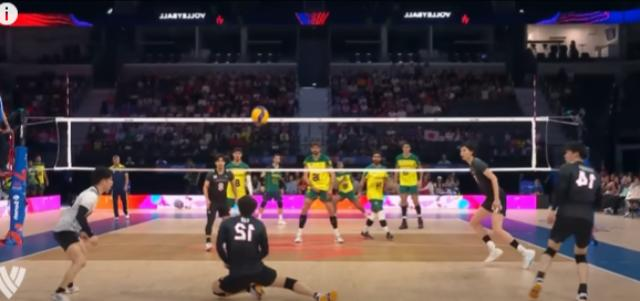Levantador: (189, 151, 239, 241), (354, 142, 396, 242)
Libero: (11, 159, 125, 301), (255, 150, 288, 218)
bola: (244, 92, 280, 138)
